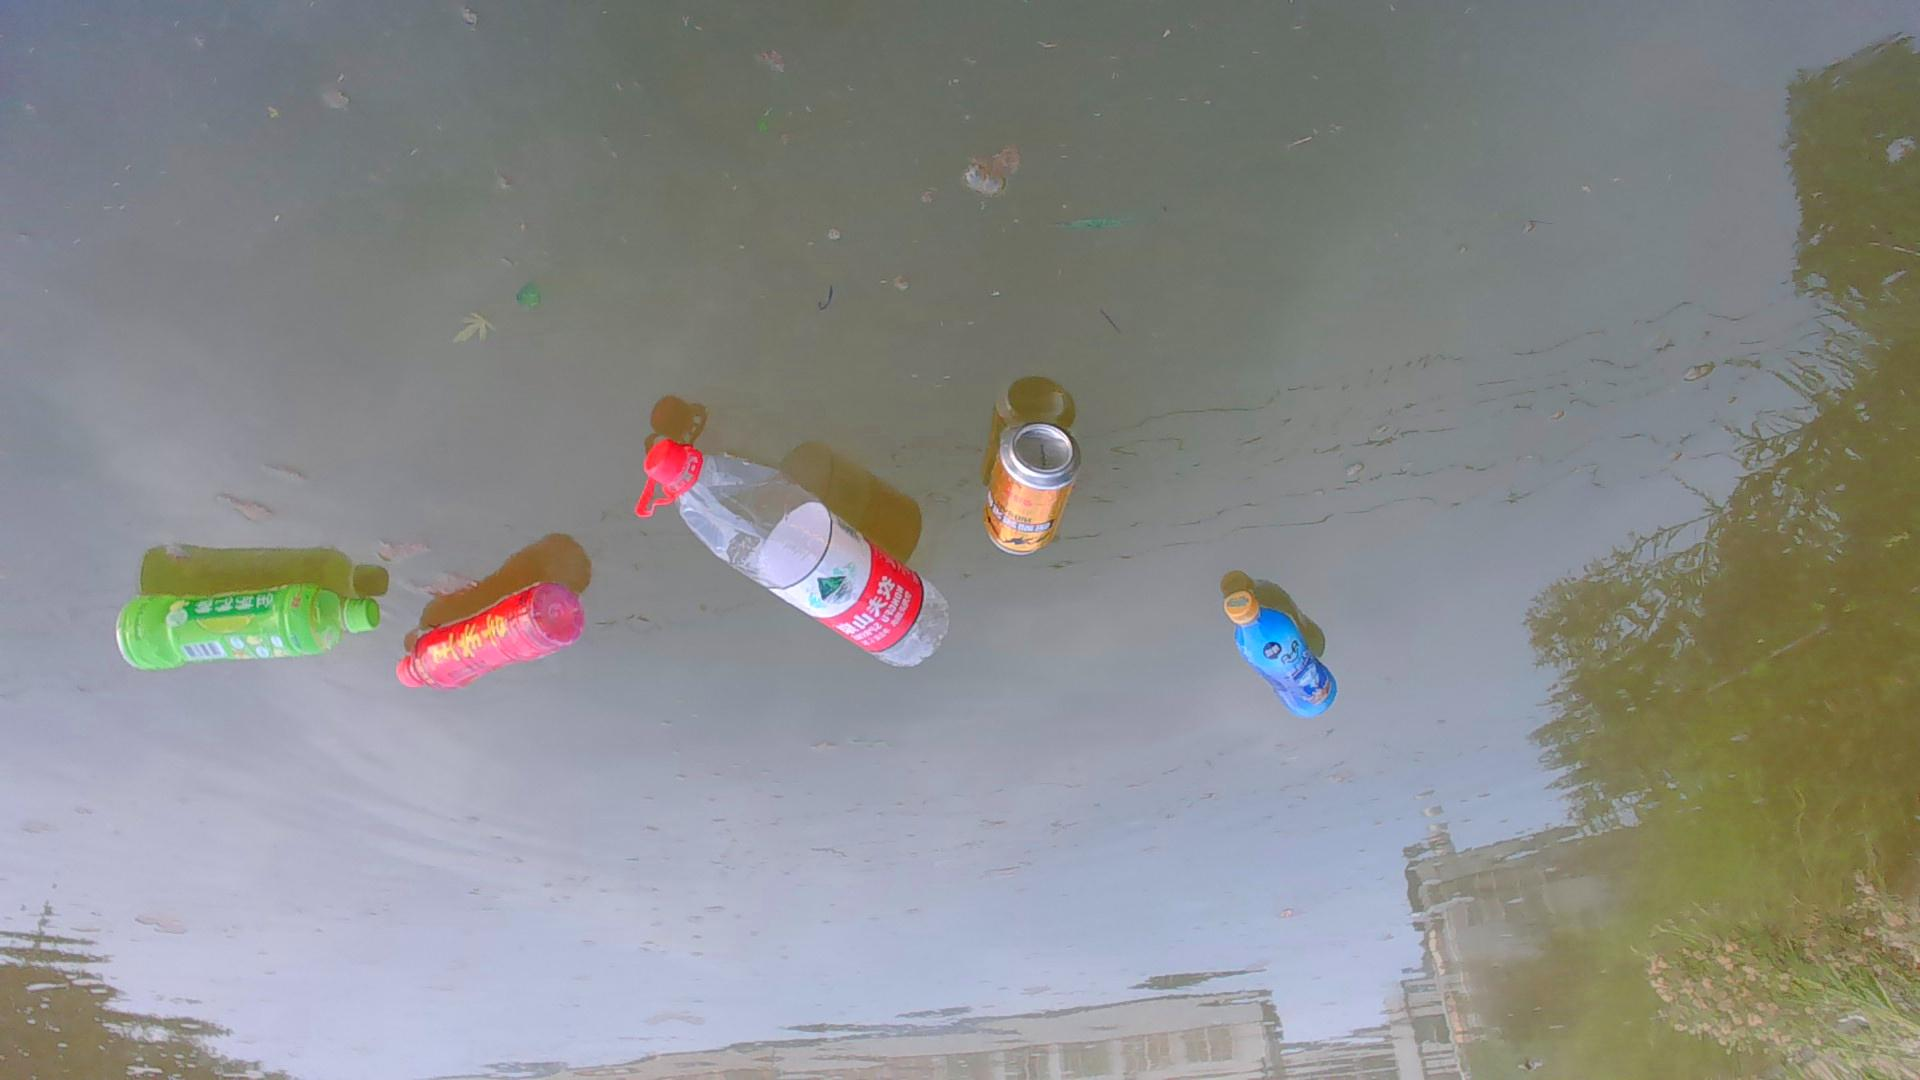Metal: (976, 421, 1087, 559)
Plastic: (632, 438, 953, 678), (105, 571, 384, 687), (396, 582, 591, 707), (1218, 585, 1341, 723)
